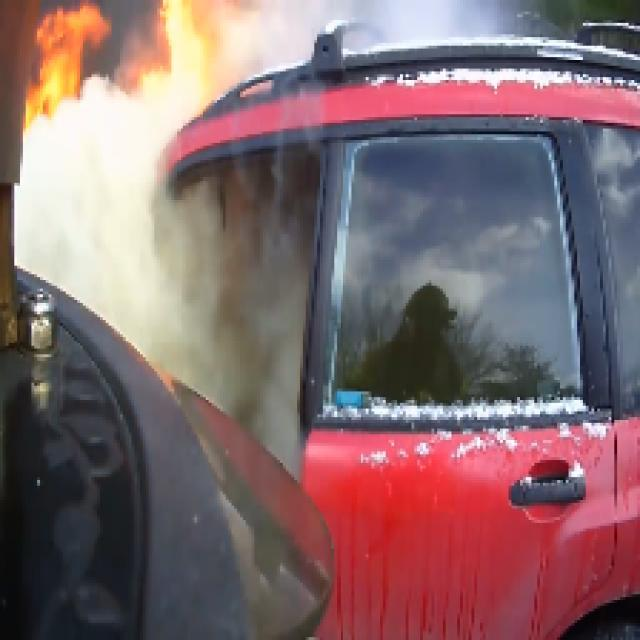Smoke: (42, 91, 178, 303)
